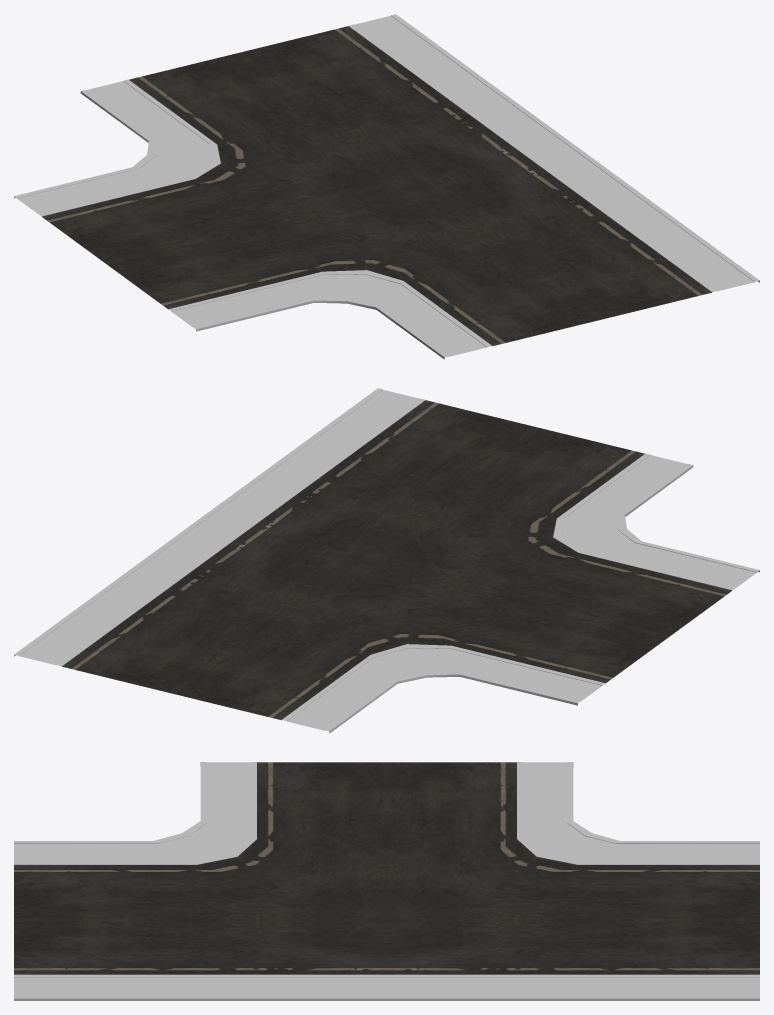
Rendered from Road_Intersection_A.fbx.
The picture shows the model from 3 angles, top to bottom: view 1: azimuth 30°, elevation 25°; view 2: azimuth 150°, elevation 25°; view 3: azimuth 270°, elevation 25°; orthographic projection. The views are drawn at different scales.
Parts seen in each view (by area): view 1: Road_Intersection_A; view 2: Road_Intersection_A; view 3: Road_Intersection_A.
Part boxes in pixels (x1=…): Road_Intersection_A: x1=14, y1=14, x2=759, y2=359; Road_Intersection_A: x1=14, y1=388, x2=759, y2=733; Road_Intersection_A: x1=14, y1=762, x2=759, y2=1000.
Size of the model in its own units: 2250 by 10.58 by 3000.
